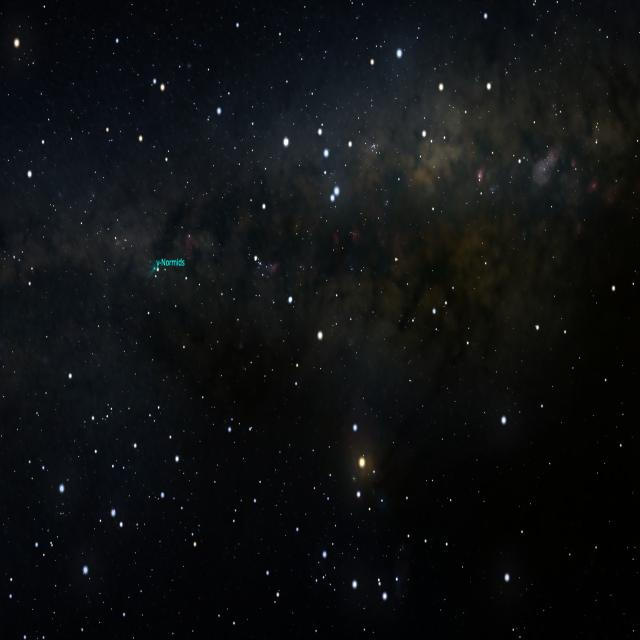Scorpius: (248, 119, 391, 606)
